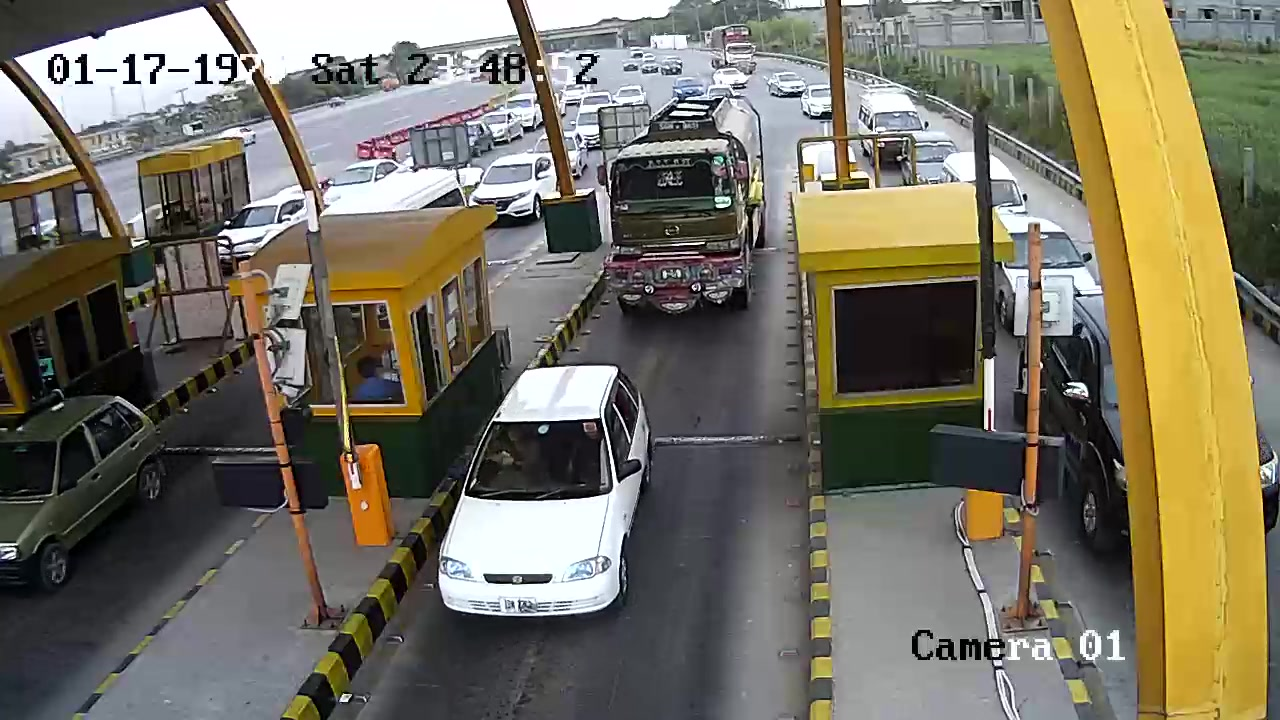F1: (425, 354, 674, 623)
F5: (603, 84, 770, 327)
